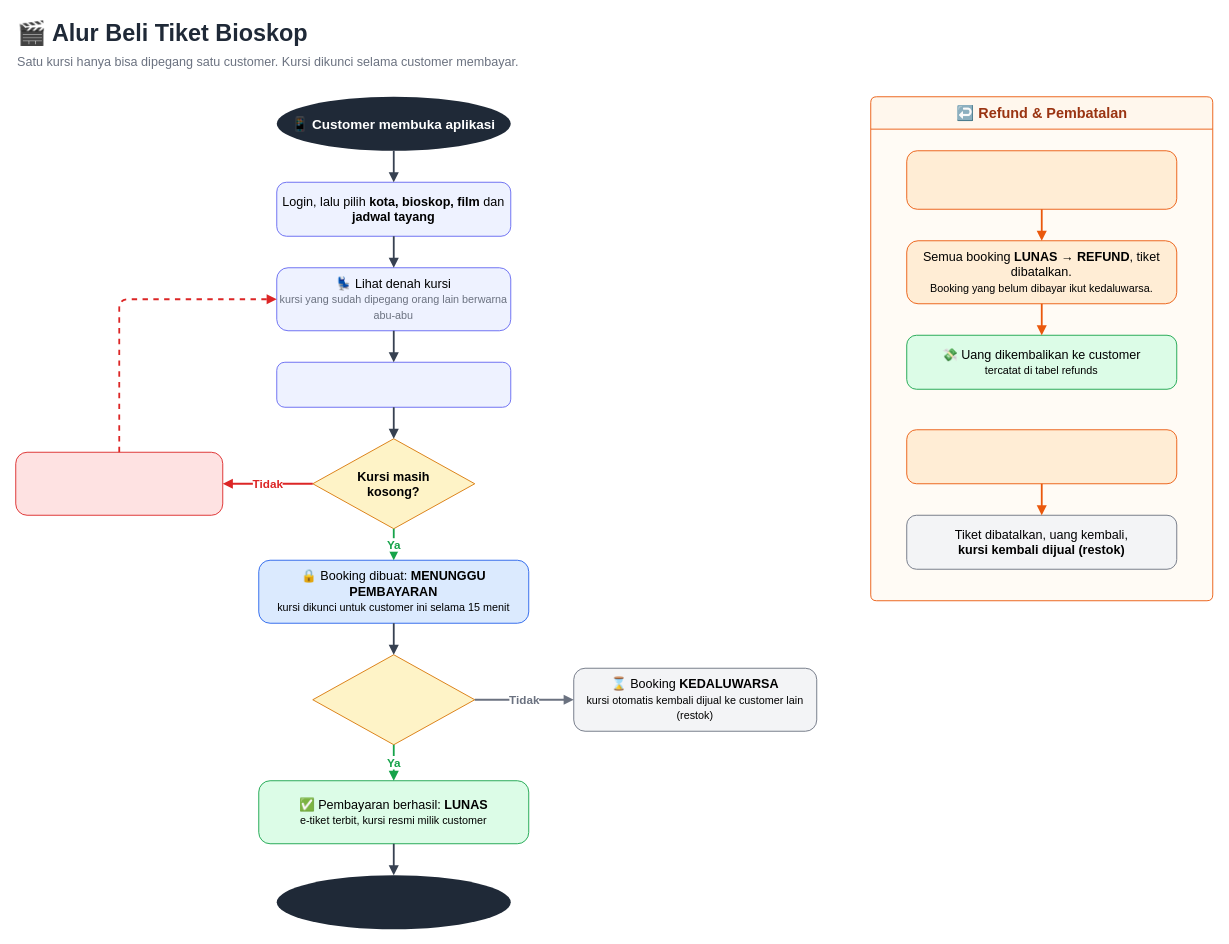
The diagram is 1229 pixels wide and 944 high, and some of its shapes have lost their labels. The centre of each missing label's shape, as x and y in pixels:
"Bayar sebelum 15 menit?" goes at pixel 393 699.
"Pilih kursi, tekan Pesan" goes at pixel 393 384.
"🍿 Datang & nonton" goes at pixel 393 902.
"🎟️ Satu tiket lunas di-refund (jadwal tetap berjalan)" goes at pixel 1041 456.
"🏢 Bioskop membatalkan jadwal tayang (misal: proyektor rusak)" goes at pixel 1041 179.
"😕 Kursi baru saja diambil customer lain. Pilih kursi lain." goes at pixel 119 483.
